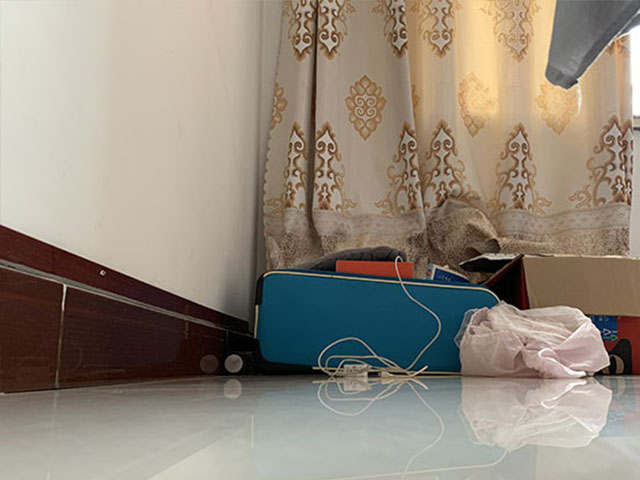wire: (307, 334, 441, 380)
